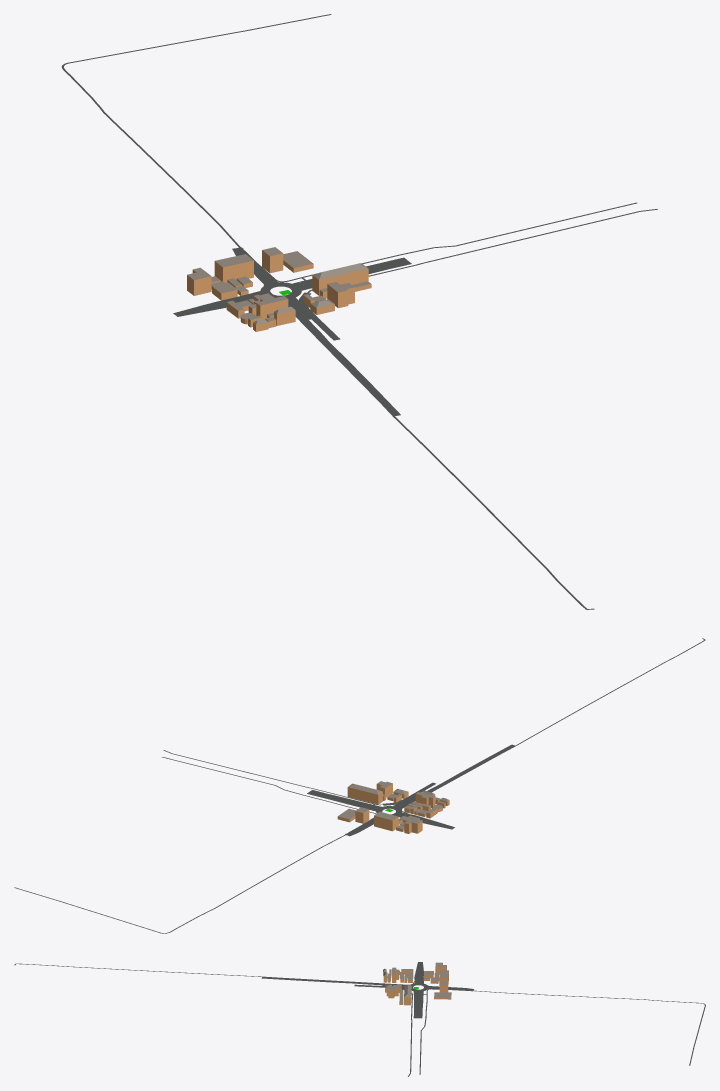
The picture shows the model from 3 angles, top to bottom: view 1: azimuth 30°, elevation 25°; view 2: azimuth 150°, elevation 25°; view 3: azimuth 270°, elevation 25°; orthographic projection. The views are drawn at different scales.
Parts seen in each view (by area): view 1: map_8.osm_buildings, map_8.osm_paths_footway, map_8.osm_roads_primary, map_8.osm_roads_tertiary; view 2: map_8.osm_buildings, map_8.osm_paths_footway, map_8.osm_roads_primary; view 3: map_8.osm_buildings, map_8.osm_paths_footway, map_8.osm_roads_primary, map_8.osm_roads_tertiary.
Boxes of the visible parts, left/top/right/bottom form: map_8.osm_buildings: left=187, top=247, right=371, bottom=331; map_8.osm_paths_footway: left=61, top=14, right=657, bottom=609; map_8.osm_roads_primary: left=173, top=257, right=411, bottom=319; map_8.osm_roads_tertiary: left=288, top=301, right=400, bottom=416; map_8.osm_buildings: left=337, top=781, right=449, bottom=833; map_8.osm_paths_footway: left=14, top=638, right=705, bottom=933; map_8.osm_roads_primary: left=307, top=790, right=454, bottom=829; map_8.osm_buildings: left=383, top=962, right=451, bottom=1005; map_8.osm_paths_footway: left=14, top=963, right=705, bottom=1076; map_8.osm_roads_primary: left=382, top=962, right=428, bottom=1018; map_8.osm_roads_tertiary: left=261, top=977, right=411, bottom=985.
Size of the model in its own units: 49859 by 2000 by 126870.
